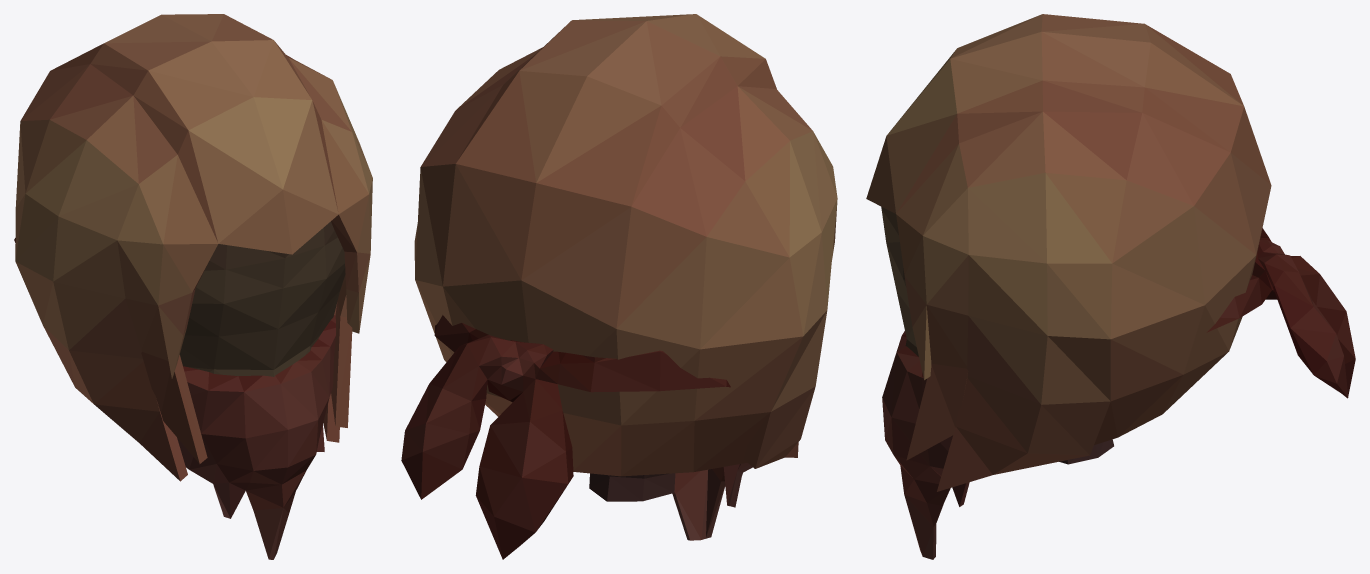
Rendered from helm_darkskin_bob_blonde_bandana.fbx.
The picture shows the model from 3 angles, left to right: view 1: azimuth 30°, elevation 25°; view 2: azimuth 150°, elevation 25°; view 3: azimuth 270°, elevation 25°; orthographic projection. The views are drawn at different scales.
Parts seen in each view (by area): view 1: helm_darkskin_bob_blonde_bandana; view 2: helm_darkskin_bob_blonde_bandana; view 3: helm_darkskin_bob_blonde_bandana.
Boxes of the visible parts, x1,y1,x2,y2 form: helm_darkskin_bob_blonde_bandana: [14, 14, 372, 559]; helm_darkskin_bob_blonde_bandana: [401, 14, 837, 559]; helm_darkskin_bob_blonde_bandana: [866, 14, 1355, 559].
Size of the model in its own units: 1.18 by 1.65 by 1.4.
